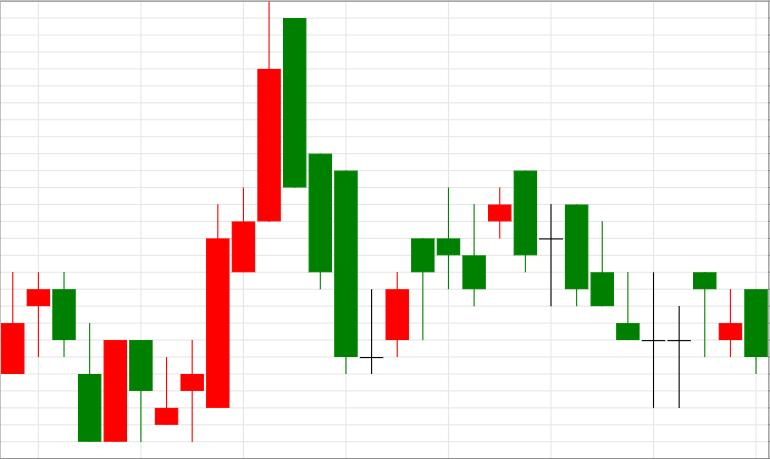morning_star_rise: (283, 18, 409, 375)
